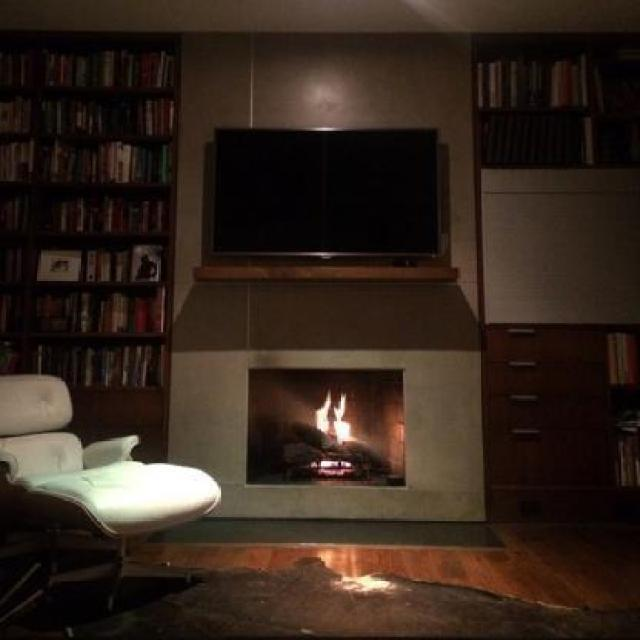Fire: (313, 388, 358, 439), (315, 455, 354, 473)
